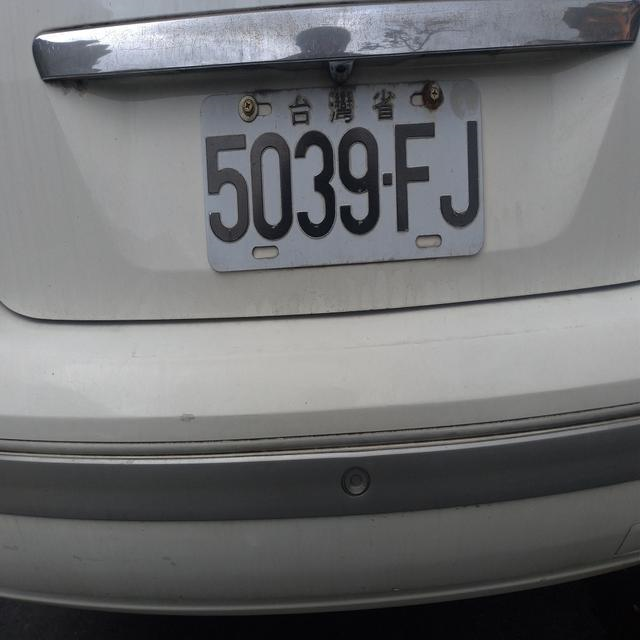license: (198, 100, 487, 249)
